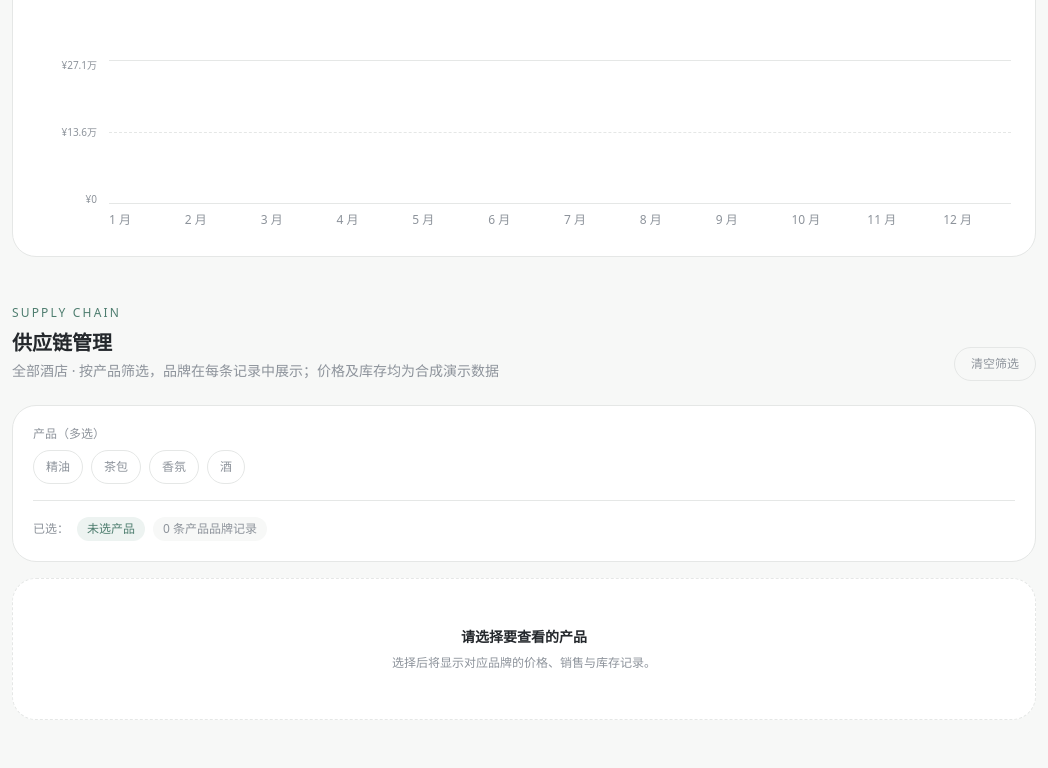
Test: commercial dashboard hotel visibility › filters supply rows by product while keeping brands visible in each row
This screenshot has width=1048, height=768.
(page scrolled)
Expected: the button "雾岚植萃" is not shown
Expected: the text "请选择要查看的产品" is shown, x1=461 y1=627 x2=587 y2=646
Click the button "精油". click: (58, 467)
box: x1=33 y1=450 x2=83 y2=484
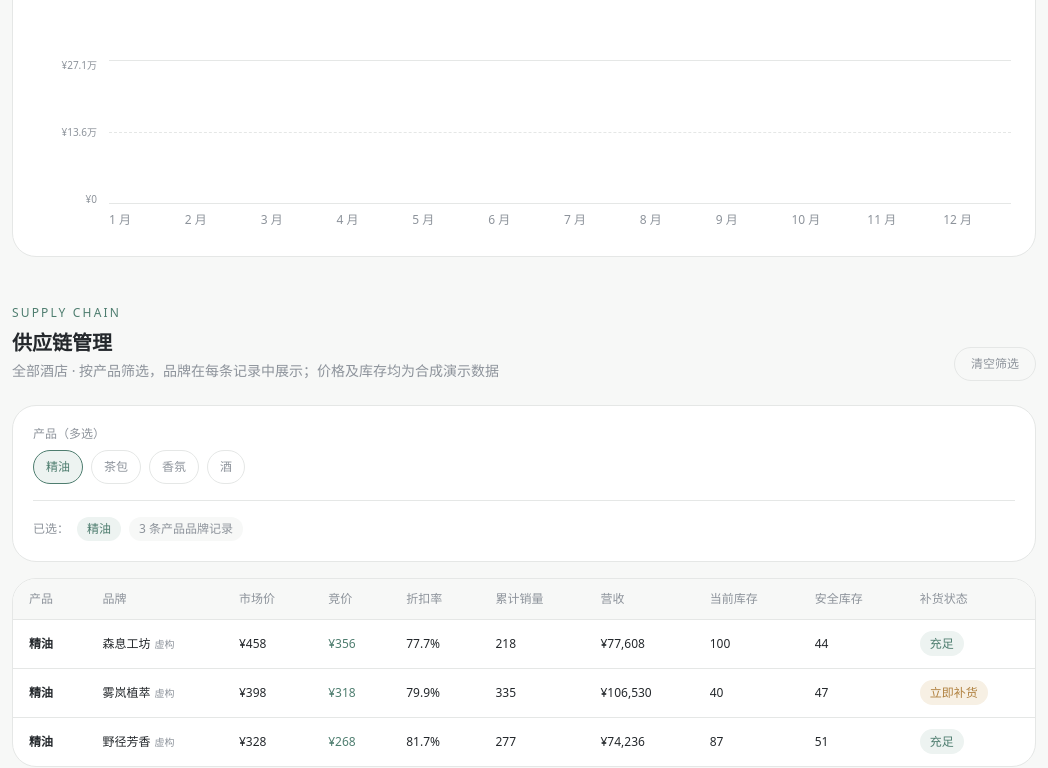
Now the text "3 条产品品牌记录" is shown, box x1=129 y1=517 x2=243 y2=541
Now the text "雾岚植萃" is shown, box x1=102 y1=684 x2=150 y2=701
